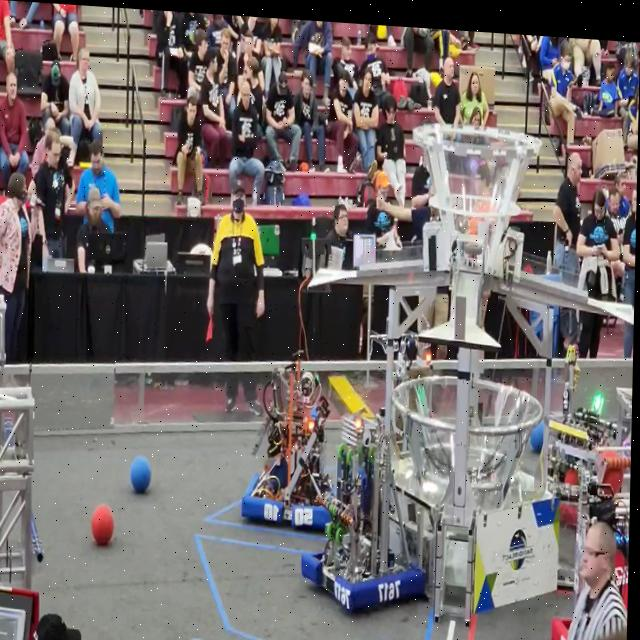robot: (301, 424, 431, 619), (242, 340, 335, 522), (553, 463, 632, 640)
